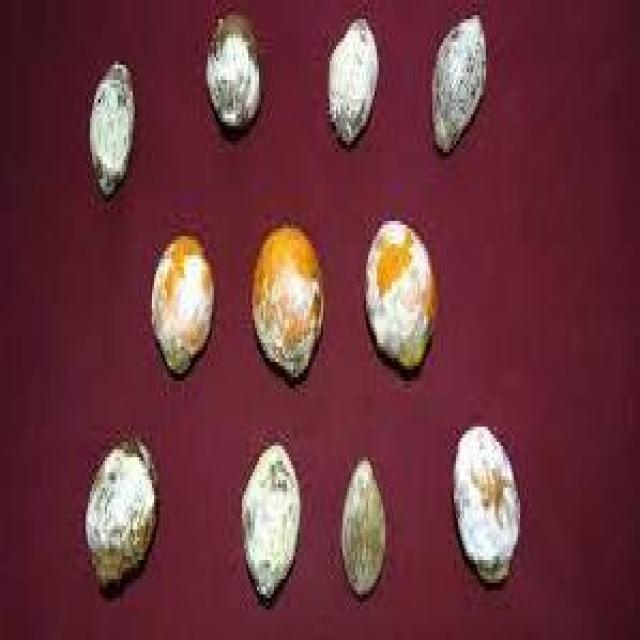damaged: (253, 225, 321, 373), (454, 427, 518, 579), (86, 442, 154, 583), (366, 221, 432, 362), (242, 442, 298, 594), (152, 236, 212, 370), (432, 19, 482, 149), (205, 19, 257, 126), (340, 461, 383, 590), (330, 19, 375, 141), (92, 61, 131, 190)
